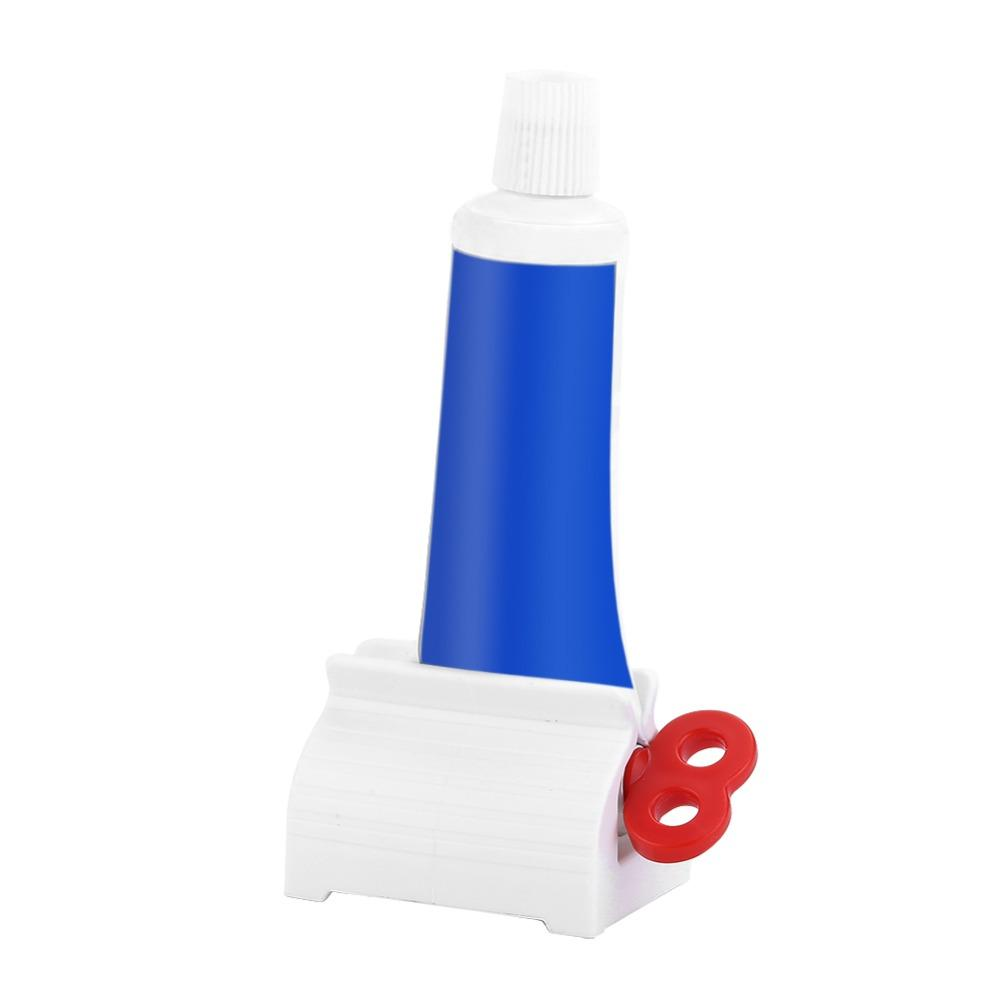toothpaste: (427, 49, 685, 713)
